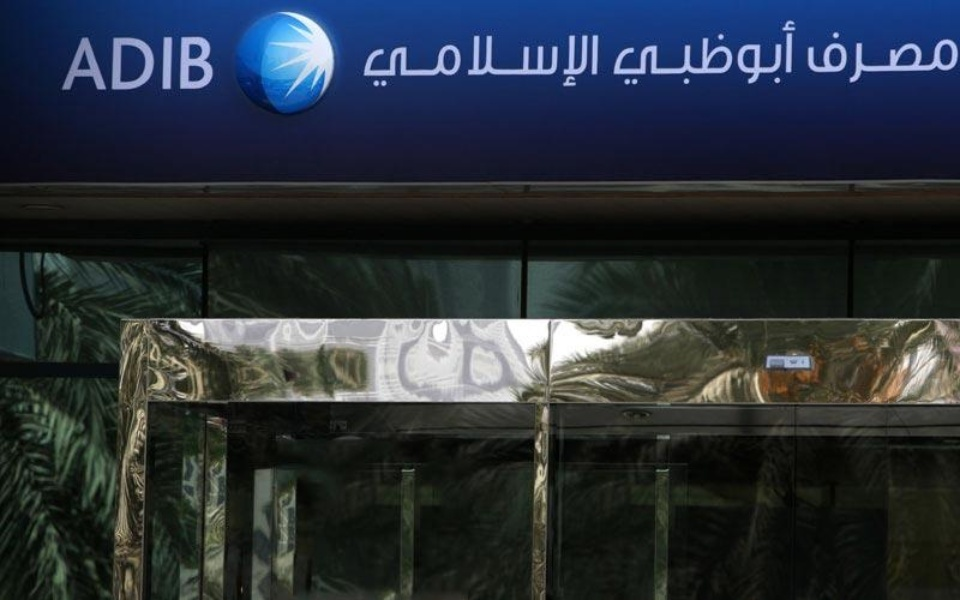text: (625, 19, 640, 88), (641, 19, 656, 88), (657, 19, 672, 88), (673, 19, 688, 88), (689, 19, 704, 88), (705, 19, 720, 88), (721, 19, 736, 88), (737, 19, 752, 88), (753, 19, 768, 88), (769, 19, 784, 88), (785, 19, 799, 88), (817, 29, 832, 87), (833, 29, 848, 87), (849, 29, 864, 87), (865, 29, 880, 87), (881, 29, 896, 87), (897, 29, 912, 87), (913, 29, 928, 87), (929, 29, 944, 87), (945, 29, 960, 87), (369, 31, 384, 89), (385, 31, 400, 89), (401, 31, 416, 89), (417, 31, 432, 89), (433, 31, 448, 89), (449, 31, 464, 89), (465, 31, 480, 89), (481, 31, 496, 89), (497, 31, 512, 89), (513, 31, 528, 89), (529, 31, 544, 89), (545, 31, 560, 89), (561, 31, 576, 89), (577, 31, 592, 89), (81, 35, 96, 91), (97, 35, 112, 91), (113, 35, 128, 91), (129, 35, 144, 91), (145, 35, 160, 91), (161, 35, 176, 91), (177, 35, 192, 91), (193, 35, 208, 91), (613, 19, 624, 88), (806, 29, 816, 87), (593, 31, 603, 89), (209, 35, 217, 91), (364, 31, 368, 89), (79, 35, 80, 91)
